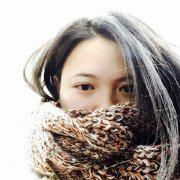WRONG: (62, 67, 149, 145)
